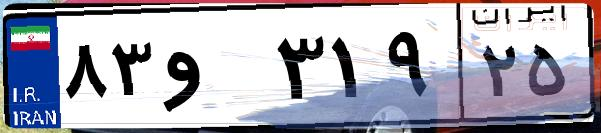1: (330, 28, 385, 110)
2: (475, 38, 525, 113)
3: (270, 28, 330, 110), (110, 28, 158, 98)
5: (525, 38, 570, 115)
8: (57, 26, 110, 100)
9: (385, 28, 445, 110)
و: (158, 20, 270, 120)
